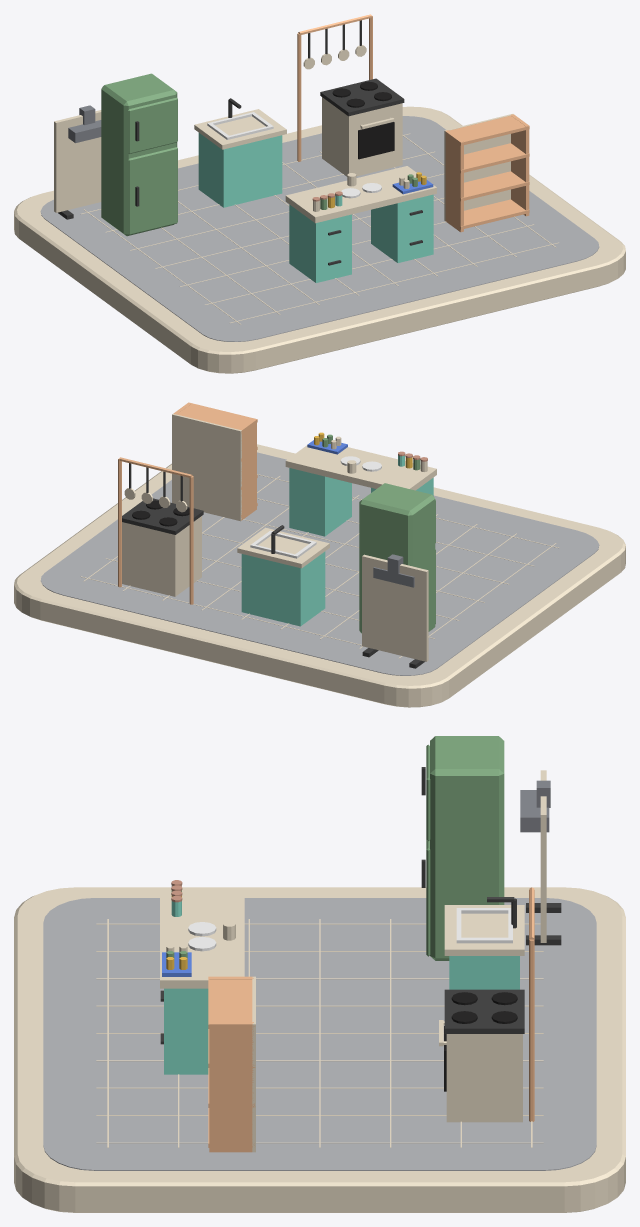
3 renders of one model, top to bottom at view 1: azimuth 30°, elevation 25°; view 2: azimuth 150°, elevation 25°; view 3: azimuth 270°, elevation 25°, orthographic. The views are drawn at different scales.
Parts seen in each view (by area): view 1: COM-02 Floor Surface, COM-01 Rounded Base Direct, Cabinet, Cabinet.001, Stove, Door, Panel, Storage module, Storage module.001, Worktop, Door.001, Counter (+11 smaller); view 2: COM-02 Floor Surface, COM-01 Rounded Base Direct, Cabinet, Back, Panel, Cabinet.001, Stove, Worktop, Storage module.001, Counter, Side, Hob (+4 smaller); view 3: COM-02 Floor Surface, COM-01 Rounded Base Direct, Cabinet, Stove, Worktop, Side.001, Storage module.001, Counter, Hob, Cabinet.001, Shelf.003, Panel (+4 smaller).
Part boxes in pixels (x1,y1,x2,y2): COM-02 Floor Surface: [40, 116, 599, 341]; COM-01 Rounded Base Direct: [14, 106, 625, 373]; Cabinet: [101, 73, 177, 236]; Cabinet.001: [198, 133, 282, 207]; Stove: [322, 97, 402, 176]; Door: [128, 147, 177, 234]; Panel: [54, 110, 101, 212]; Storage module: [289, 204, 351, 282]; Storage module.001: [371, 194, 433, 262]; Worktop: [285, 166, 436, 223]; Door.001: [128, 97, 177, 153]; Counter: [194, 109, 286, 149]; COM-02 Floor Surface: [40, 452, 599, 675]; COM-01 Rounded Base Direct: [14, 444, 625, 707]; Cabinet: [359, 483, 435, 633]; Back: [172, 413, 241, 521]; Panel: [362, 554, 428, 661]; Cabinet.001: [241, 551, 325, 626]; Stove: [122, 516, 201, 596]; Worktop: [285, 445, 436, 490]; Storage module.001: [289, 468, 351, 536]; Counter: [237, 527, 329, 568]; Side: [239, 418, 256, 520]; Hob: [122, 498, 203, 534]; COM-02 Floor Surface: [43, 898, 596, 1170]; COM-01 Rounded Base Direct: [14, 887, 625, 1212]; Cabinet: [430, 736, 504, 960]; Stove: [446, 1034, 522, 1122]; Worktop: [160, 895, 244, 988]; Side.001: [209, 1022, 253, 1152]; Storage module.001: [164, 988, 208, 1074]; Counter: [444, 905, 524, 955]; Hob: [444, 989, 524, 1033]; Cabinet.001: [449, 956, 519, 989]; Shelf.003: [208, 976, 254, 1028]; Panel: [540, 770, 546, 942].
Size of the model in its own units: 6 by 2.1 by 5.2.
1 material, 1 textured.
